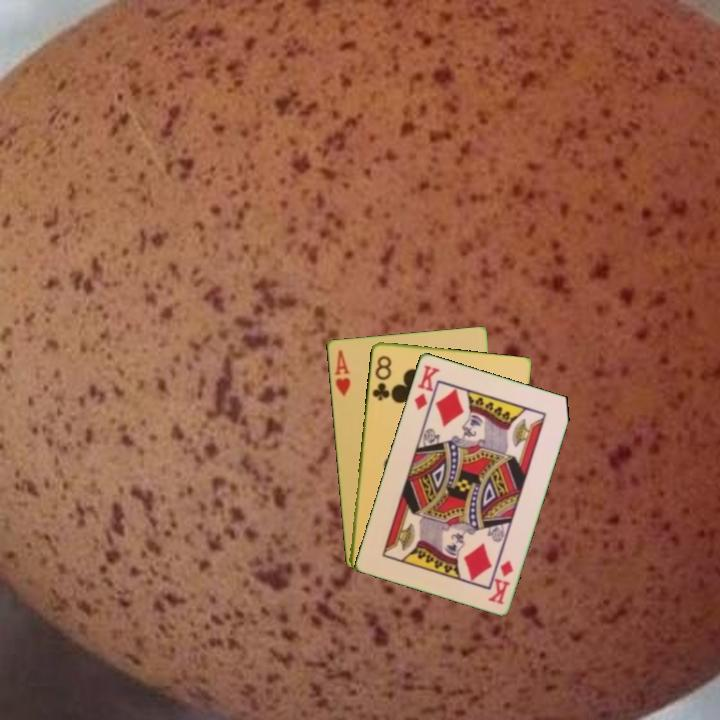8c: (368, 352, 394, 403)
Ah: (331, 346, 353, 399)
Kd: (410, 361, 443, 412), (485, 556, 516, 607)
